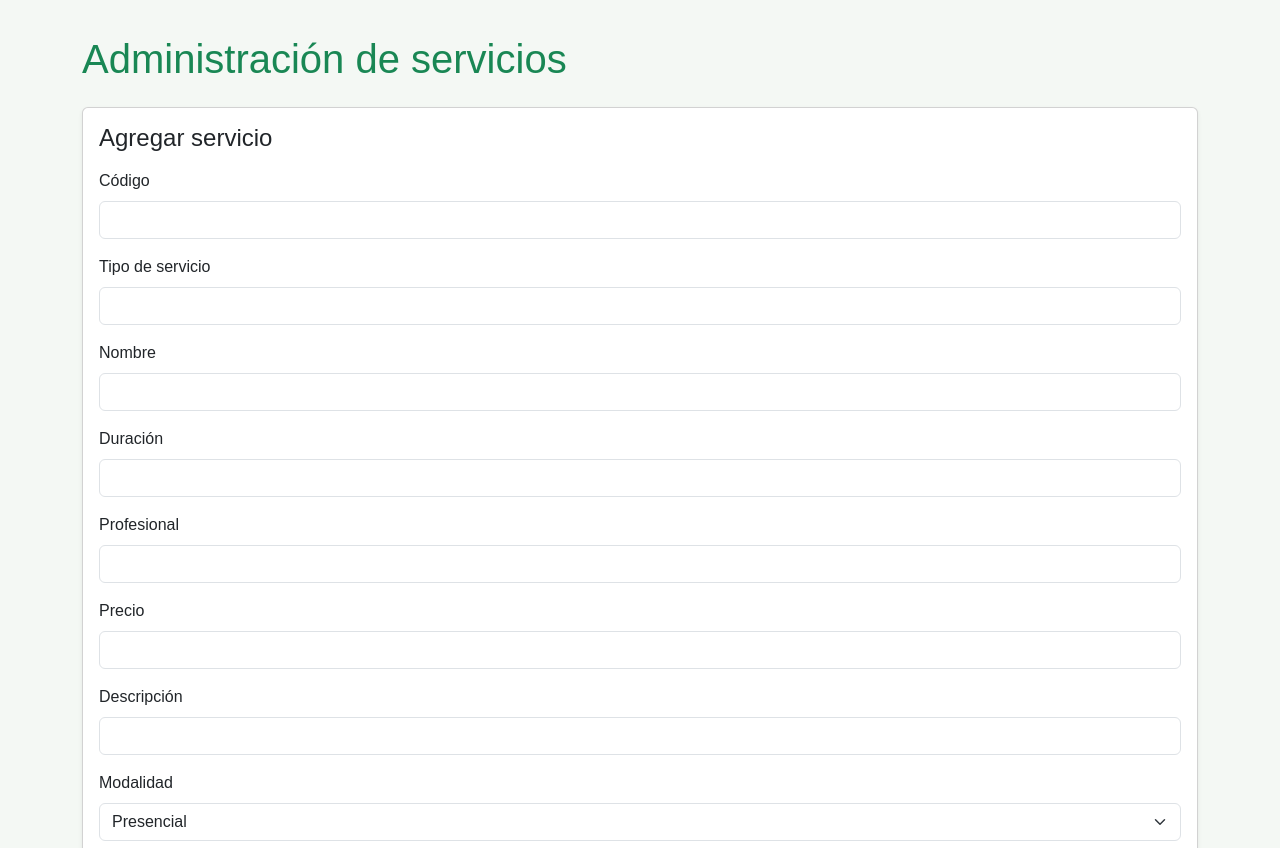
Test: Administración de servicios de NutriVida › impide agregar un servicio con código duplicado
This screenshot has width=1280, height=848.
Type "NUT001" into the 1st field named "codigo" at (640, 220), box [99, 201, 1181, 239]
Type "Consulta" into the field below "Tipo de servicio" at (640, 306), box [99, 287, 1181, 325]
Type "Control nutricional" into the 3rd field named "nombre" at (640, 392), box [99, 373, 1181, 411]
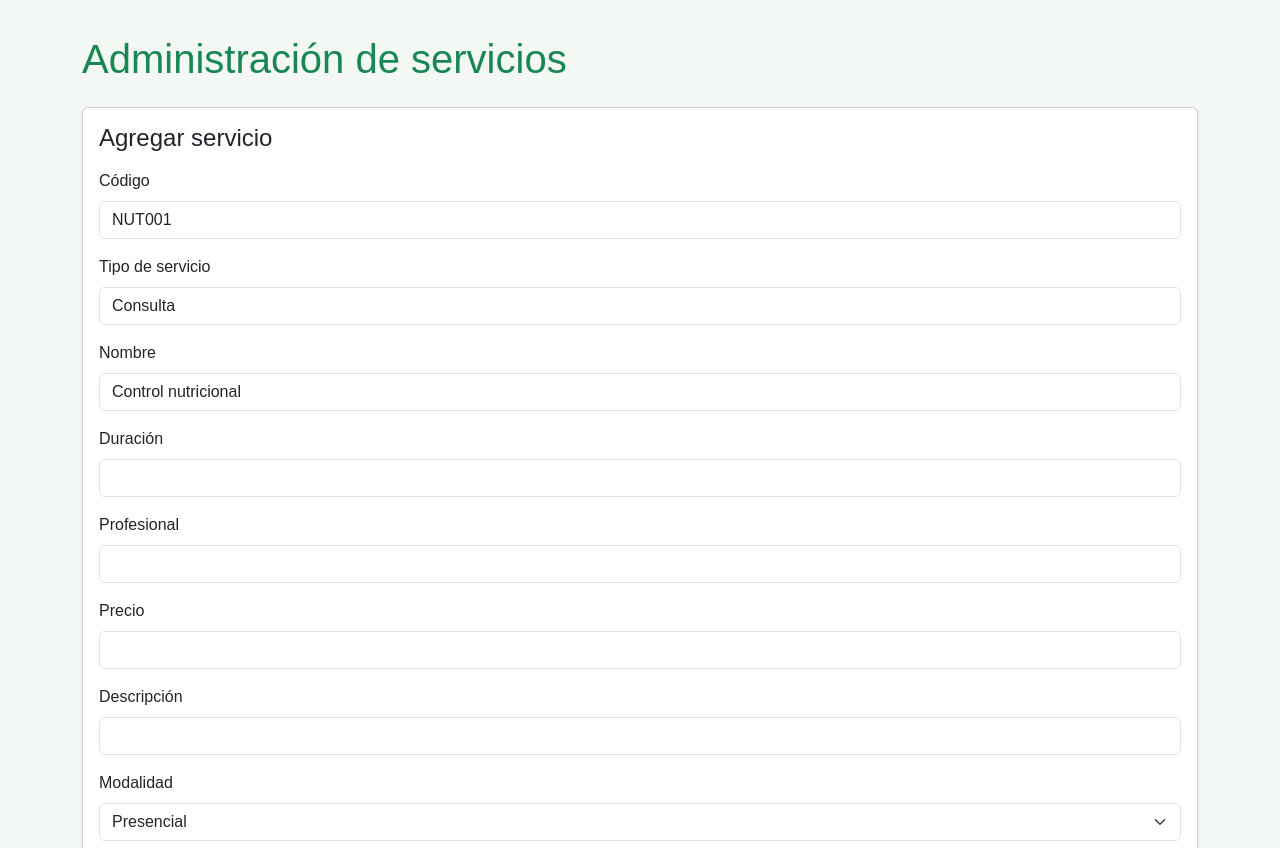
Type "30 minutos" into the field below "Duración" at (640, 478), box [99, 459, 1181, 497]
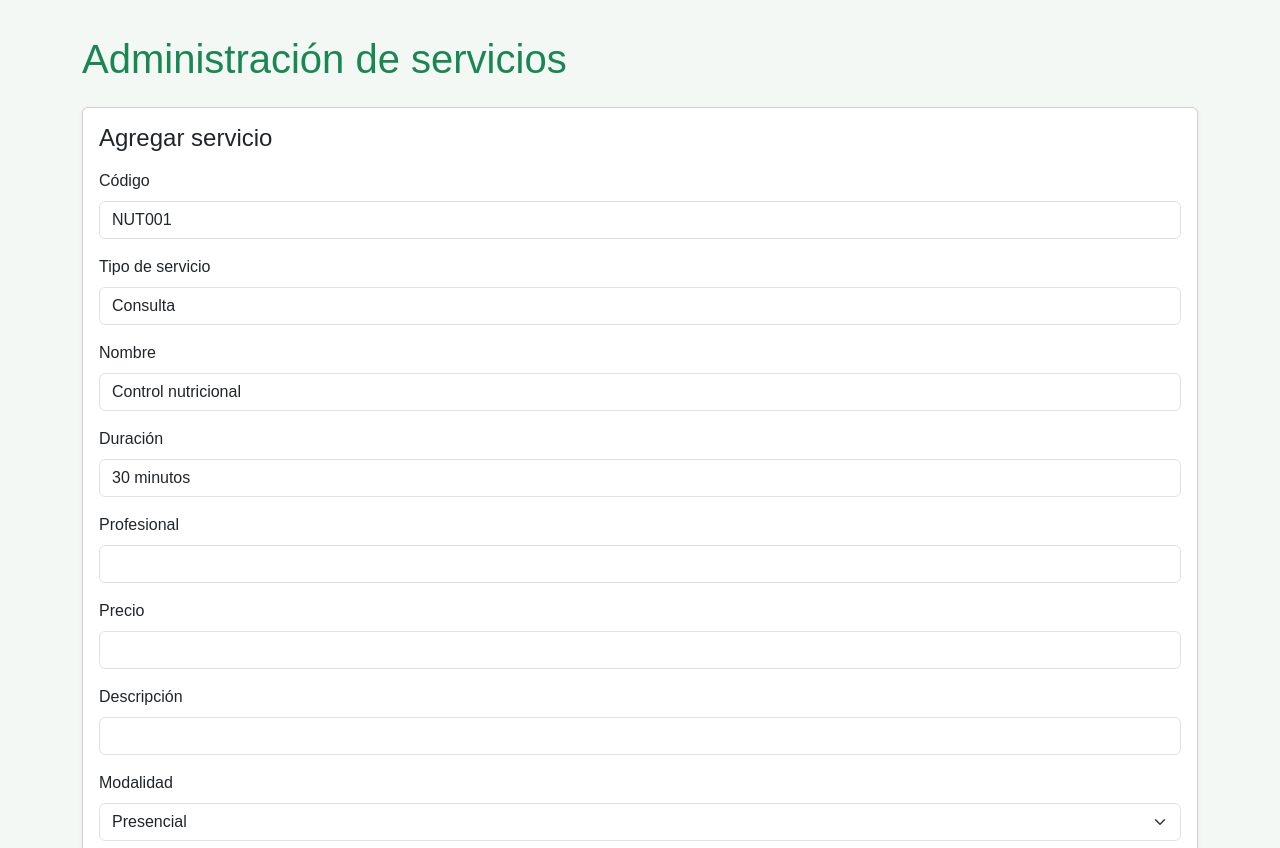
Type "Nutricionista 2" into the field below "Profesional" at (640, 564), box [99, 545, 1181, 583]
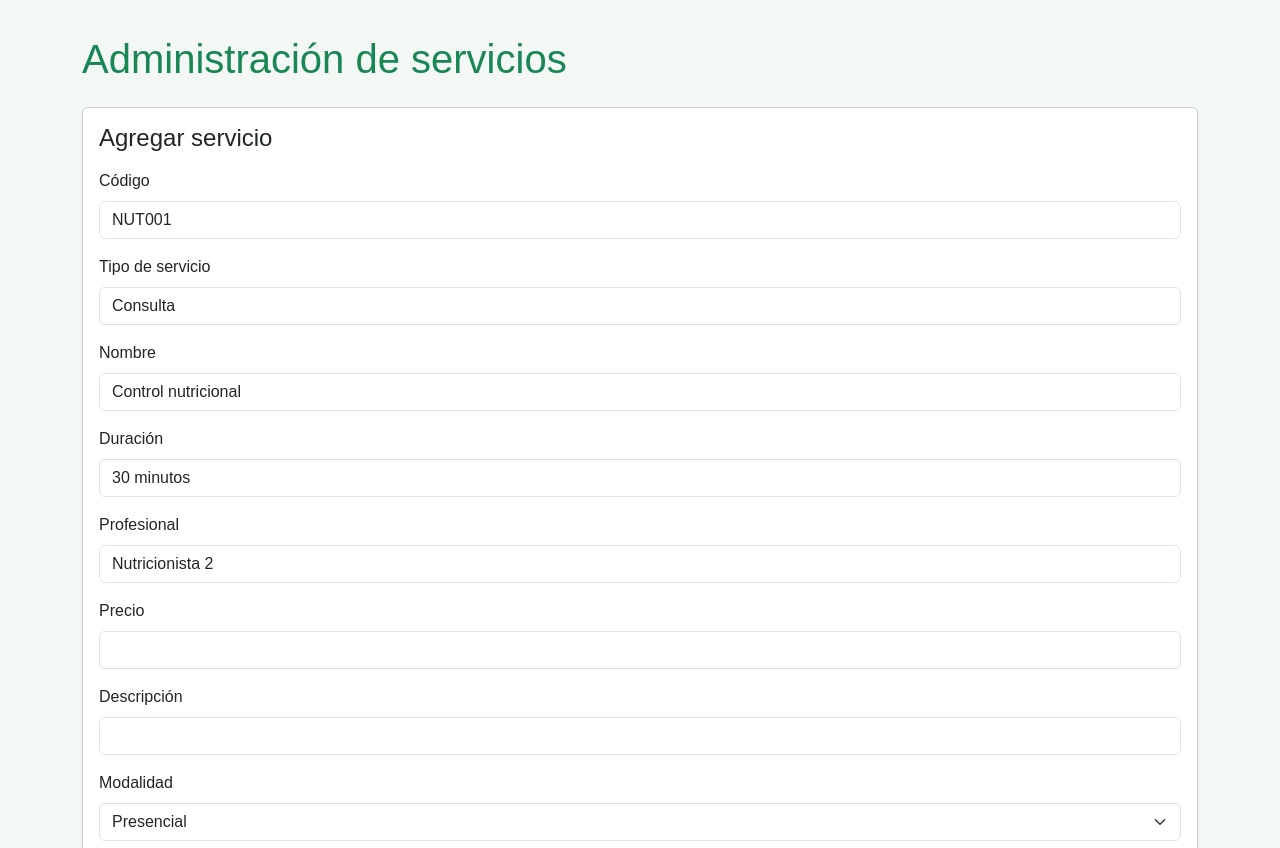
Type "18000" into the number field at (640, 650), box [99, 631, 1181, 669]
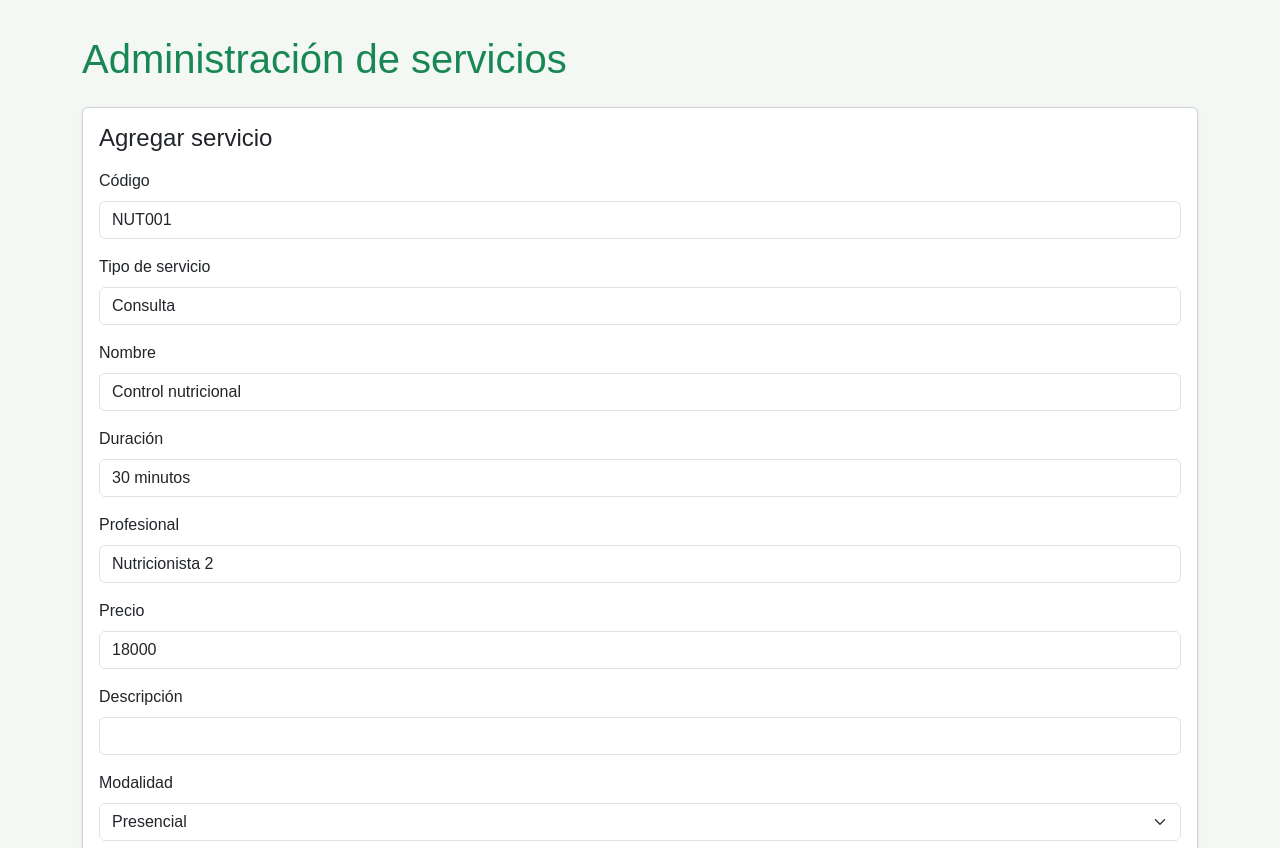
Type "Control de alimentación" into the field below "Descripción" at (640, 736), box [99, 717, 1181, 755]
(page scrolled)
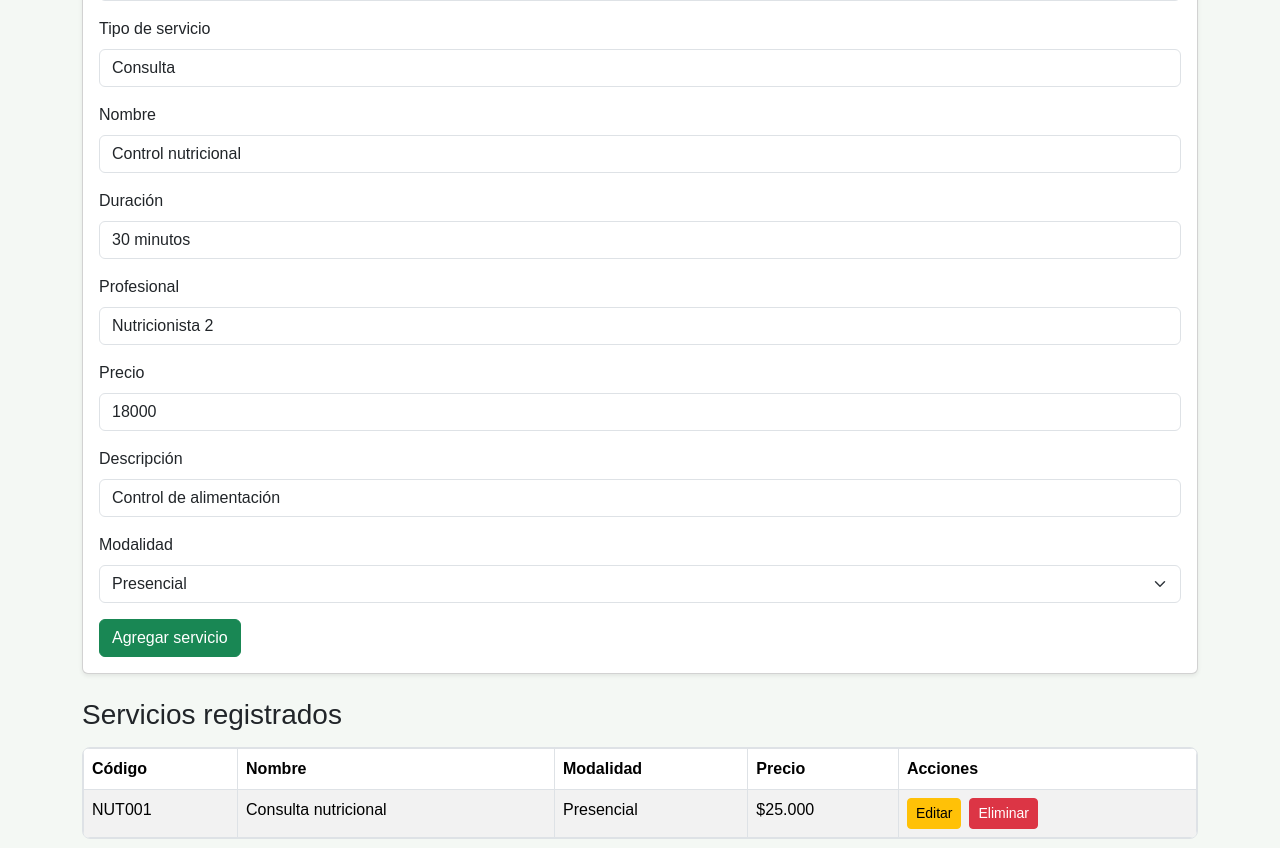
Click the button "Agregar servicio" at (170, 638), box [99, 619, 241, 657]
(page scrolled)
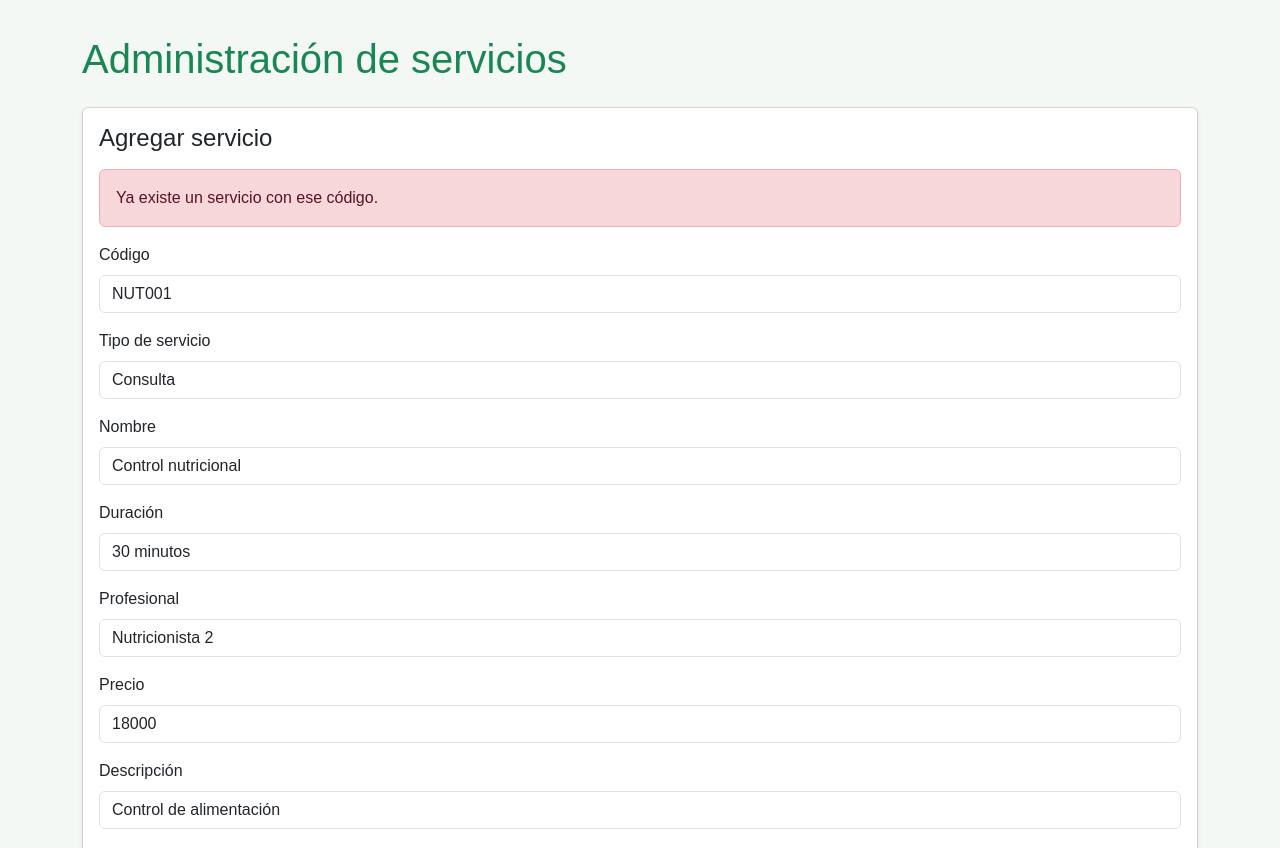
Now the text "Ya existe un servicio con ese código." is shown, box [99, 169, 1181, 227]
